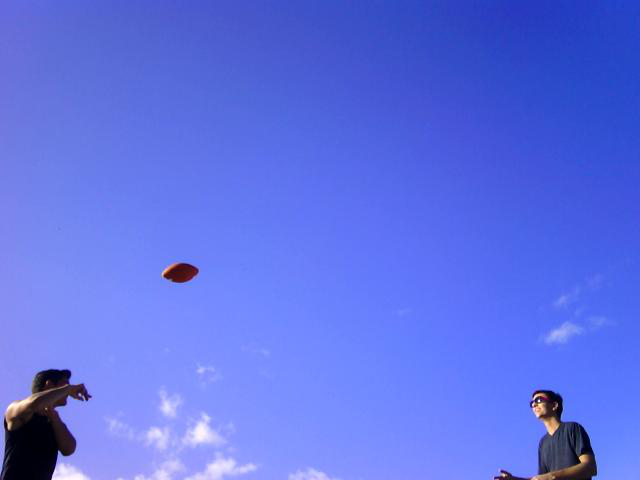football: (158, 256, 202, 287)
